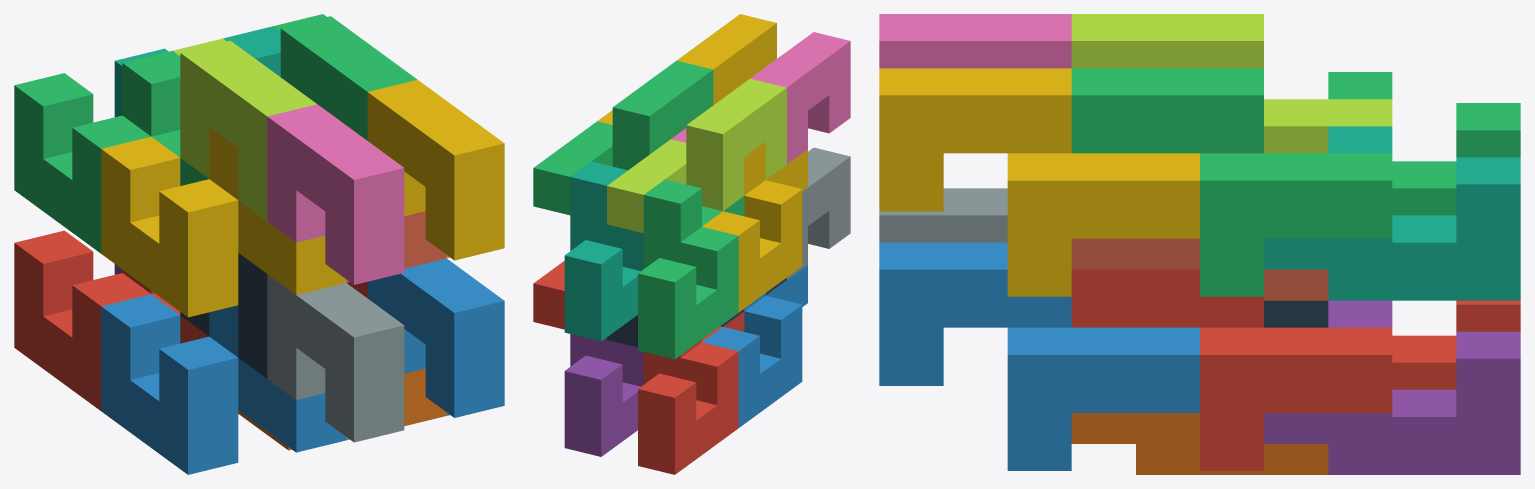
The model's file is tiling.obj.
3 views of the same model, side by side, from view 1: azimuth 30°, elevation 25°; view 2: azimuth 150°, elevation 25°; view 3: azimuth 270°, elevation 25° (orthographic). The views are drawn at different scales.
Visible parts, largest first — view 1: copy_1_domain_4, copy_1_domain_2, copy_2_domain_4, copy_1_domain_3, copy_2_domain_2, copy_2_domain_8, copy_2_domain_6, copy_1_domain_1, copy_2_domain_3, copy_2_domain_7, copy_2_domain_1, copy_1_domain_7 (+2 smaller); view 2: copy_1_domain_3, copy_2_domain_3, copy_1_domain_1, copy_2_domain_7, copy_1_domain_7, copy_1_domain_4, copy_1_domain_2, copy_1_domain_5, copy_2_domain_4, copy_2_domain_8, copy_2_domain_2, copy_2_domain_5 (+1 smaller); view 3: copy_2_domain_8, copy_2_domain_6, copy_2_domain_7, copy_2_domain_5, copy_1_domain_7, copy_1_domain_5, copy_2_domain_3, copy_2_domain_4, copy_1_domain_3, copy_1_domain_6, copy_1_domain_8, copy_1_domain_1 (+2 smaller).
Part boxes in pixels (x1=…): copy_1_domain_4: x1=101, y1=127, x2=346, y2=317; copy_1_domain_2: x1=101, y1=294, x2=346, y2=474; copy_2_domain_4: x1=267, y1=104, x2=404, y2=284; copy_1_domain_3: x1=14, y1=50, x2=208, y2=253; copy_2_domain_2: x1=267, y1=274, x2=404, y2=442; copy_2_domain_8: x1=367, y1=79, x2=504, y2=260; copy_2_domain_6: x1=367, y1=258, x2=504, y2=417; copy_1_domain_1: x1=14, y1=230, x2=208, y2=410; copy_2_domain_3: x1=173, y1=38, x2=316, y2=220; copy_2_domain_7: x1=273, y1=14, x2=417, y2=140; copy_2_domain_1: x1=180, y1=253, x2=267, y2=378; copy_1_domain_7: x1=114, y1=26, x2=280, y2=116; copy_1_domain_3: x1=638, y1=179, x2=744, y2=359; copy_2_domain_3: x1=607, y1=78, x2=786, y2=233; copy_1_domain_1: x1=638, y1=311, x2=744, y2=474; copy_2_domain_7: x1=533, y1=60, x2=713, y2=215; copy_1_domain_7: x1=564, y1=161, x2=643, y2=341; copy_1_domain_4: x1=702, y1=142, x2=807, y2=312; copy_1_domain_2: x1=702, y1=265, x2=807, y2=427; copy_1_domain_5: x1=564, y1=334, x2=643, y2=456; copy_2_domain_4: x1=671, y1=32, x2=850, y2=163; copy_2_domain_8: x1=597, y1=14, x2=776, y2=124; copy_2_domain_2: x1=787, y1=147, x2=850, y2=279; copy_2_domain_5: x1=533, y1=261, x2=564, y2=329; copy_2_domain_8: x1=879, y1=68, x2=1199, y2=296; copy_2_domain_6: x1=879, y1=242, x2=1199, y2=470; copy_2_domain_7: x1=1071, y1=68, x2=1392, y2=296; copy_2_domain_5: x1=1071, y1=269, x2=1392, y2=470; copy_1_domain_7: x1=1264, y1=126, x2=1520, y2=300; copy_1_domain_5: x1=1264, y1=300, x2=1520, y2=474; copy_2_domain_3: x1=1071, y1=14, x2=1392, y2=153; copy_2_domain_4: x1=879, y1=14, x2=1071, y2=68; copy_1_domain_3: x1=1328, y1=72, x2=1520, y2=215; copy_1_domain_6: x1=1071, y1=413, x2=1328, y2=474; copy_1_domain_8: x1=1071, y1=238, x2=1328, y2=300; copy_1_domain_1: x1=1392, y1=300, x2=1520, y2=389.
Size of the model in its own units: 5 by 7 by 10.
